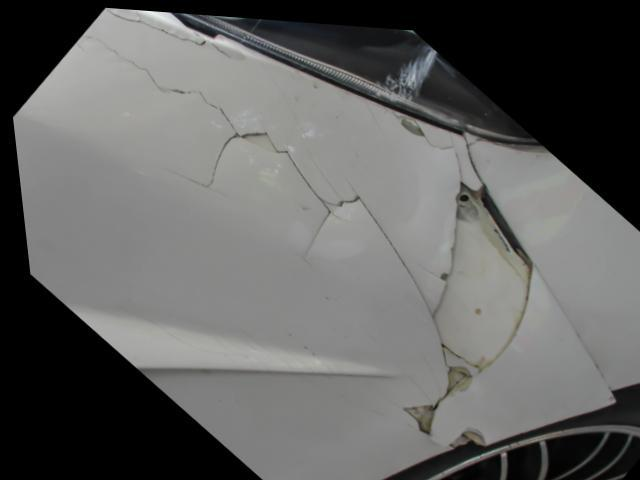crack: (80, 31, 531, 444), (101, 6, 230, 53)
